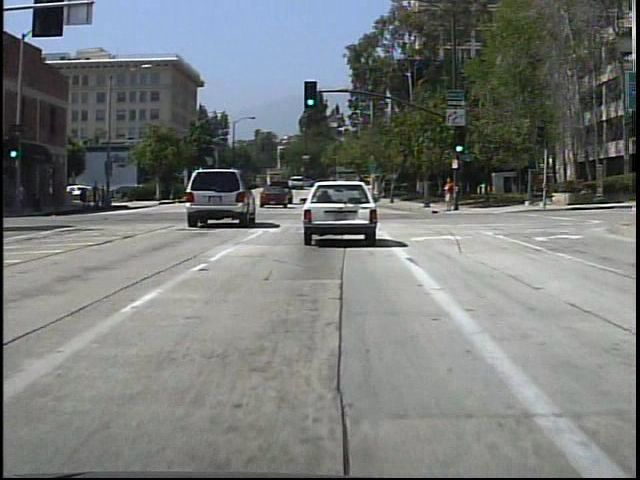person: (439, 172, 458, 215), (92, 180, 103, 211), (105, 182, 106, 209)
